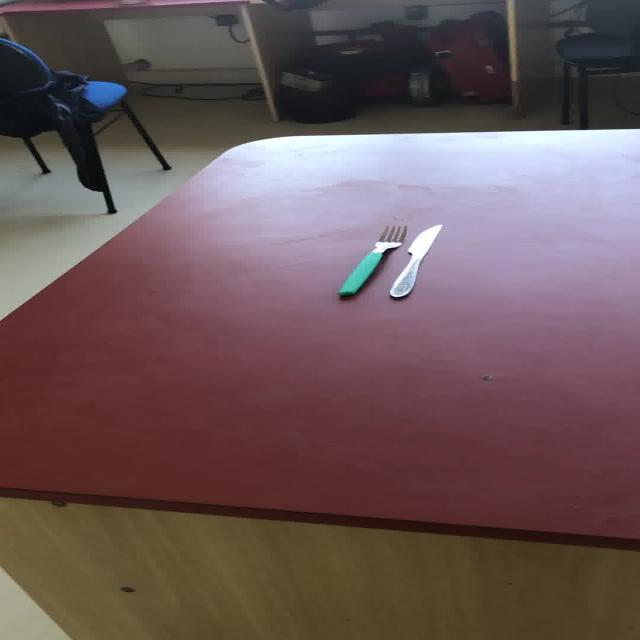fork: (336, 223, 406, 296)
knife fork: (388, 222, 442, 298)
